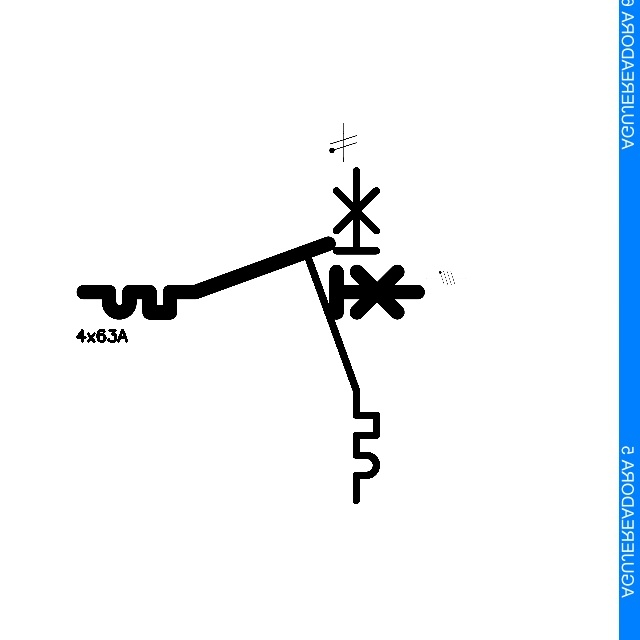interruptor_termomagnetico: (75, 235, 426, 321), (300, 162, 385, 509)
